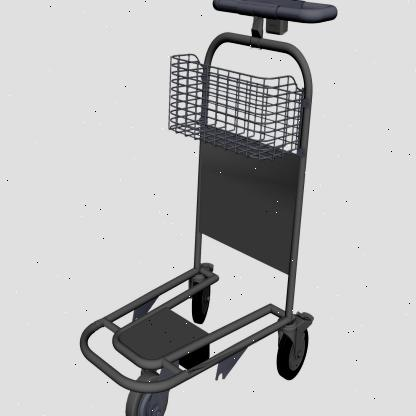airport-trolley: (78, 0, 338, 416)
